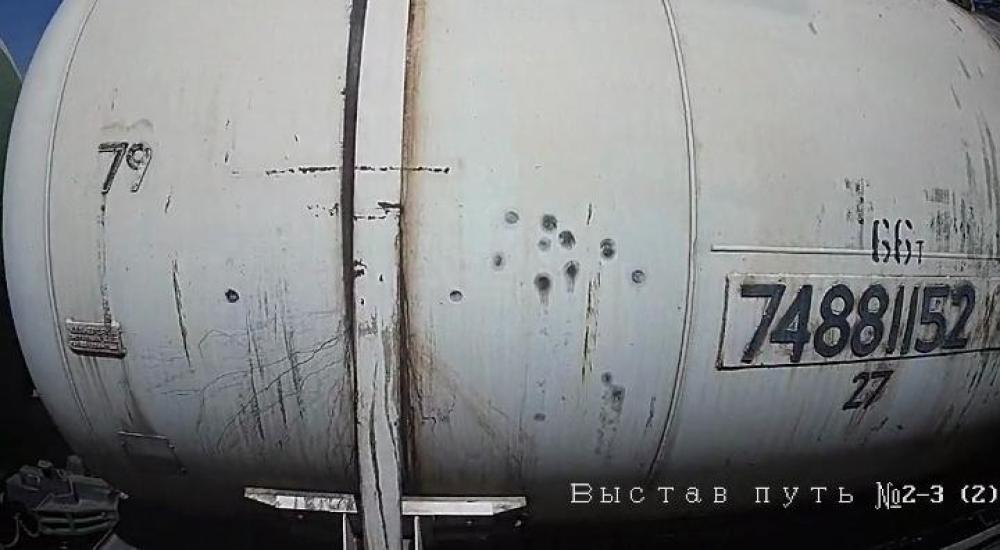Wagon-number: (732, 276, 980, 362)
